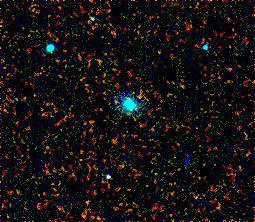star: (123, 82, 153, 112)
